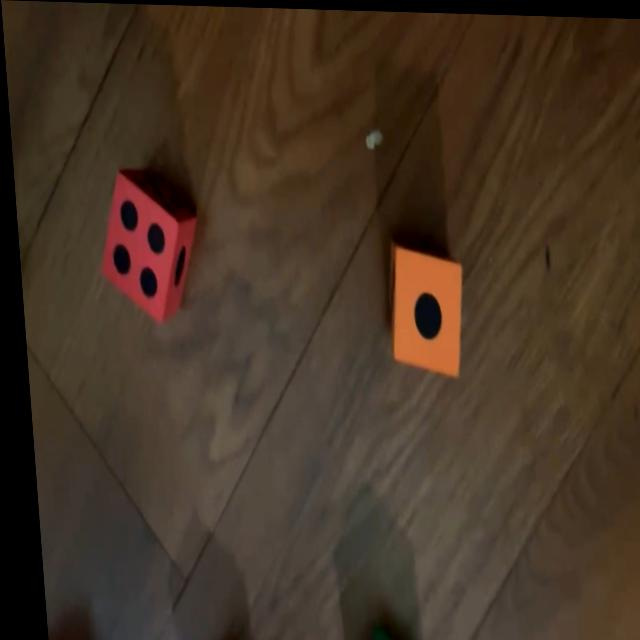cube: (92, 168, 198, 325)
